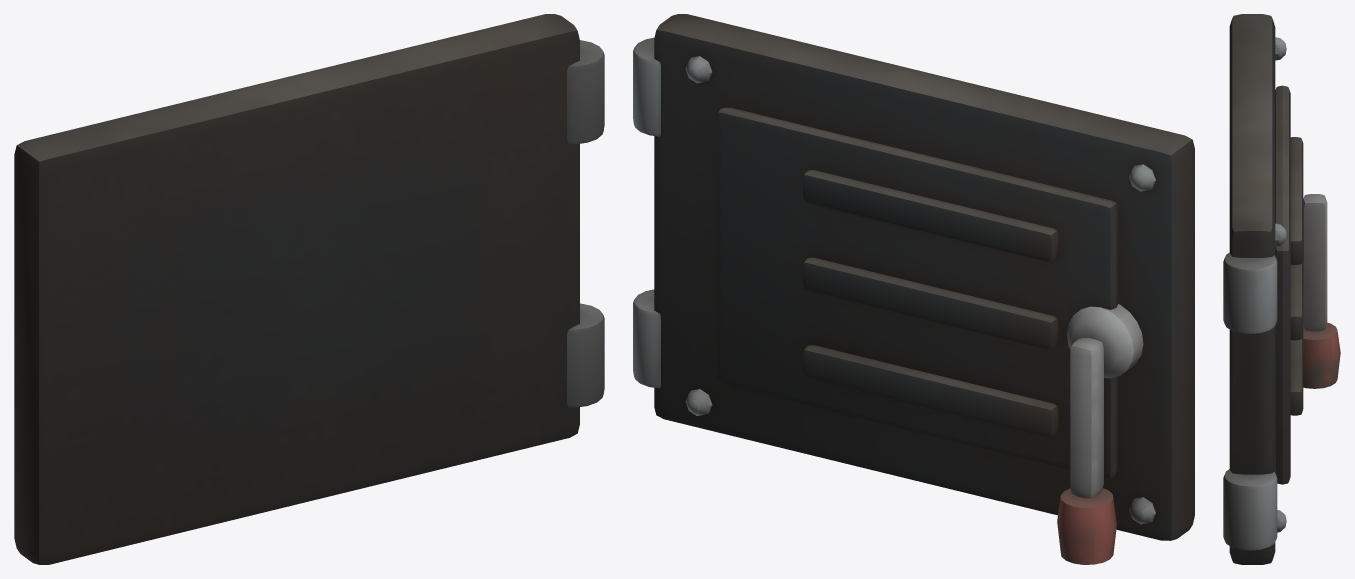
The model's file is SM_Boiler_03_Door.fbx.
3 renders of one model, left to right at view 1: azimuth 30°, elevation 25°; view 2: azimuth 150°, elevation 25°; view 3: azimuth 270°, elevation 25°, orthographic. The views are drawn at different scales.
Parts seen in each view (by area): view 1: SM_Boiler_03_Door; view 2: SM_Boiler_03_Door; view 3: SM_Boiler_03_Door.
Boxes of the visible parts, x1,y1,x2,y2 form: SM_Boiler_03_Door: [14, 14, 604, 564]; SM_Boiler_03_Door: [633, 14, 1194, 564]; SM_Boiler_03_Door: [1223, 14, 1340, 564].
Size of what is drawn, in the model's own units: 26.3 by 18.4 by 5.65.
1 material, 1 textured.
